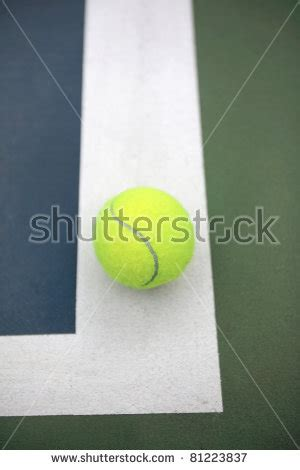tennis_ball: (93, 185, 195, 290)
